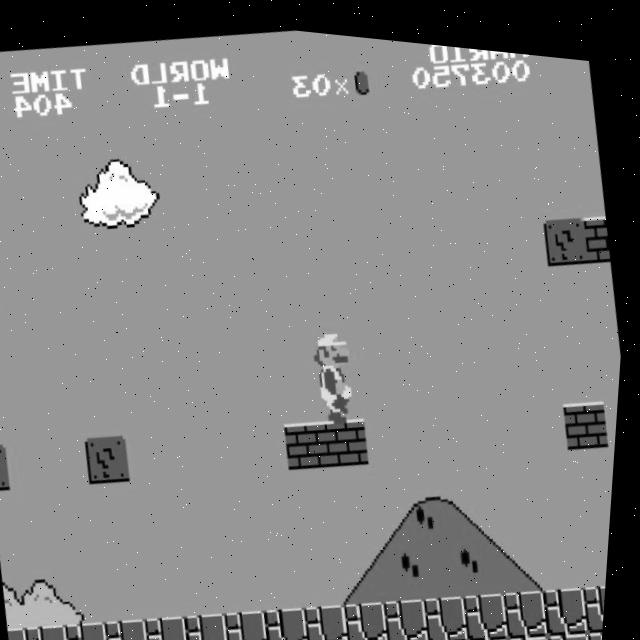1- brick_block: (326, 406, 377, 462), (565, 384, 615, 440), (287, 410, 337, 466), (584, 200, 615, 251)
13- mystery_block: (88, 429, 139, 485), (543, 201, 593, 256), (0, 441, 19, 491)
17- undestructible_block: (547, 570, 598, 626), (507, 574, 558, 630), (468, 578, 519, 634), (428, 582, 479, 637), (388, 585, 439, 640), (349, 589, 399, 640), (309, 593, 359, 640), (269, 596, 320, 640), (229, 600, 280, 640), (190, 604, 240, 640), (149, 607, 200, 640), (110, 611, 161, 640), (587, 566, 613, 620), (71, 615, 121, 640), (554, 615, 600, 640), (31, 618, 81, 640), (514, 619, 560, 640), (474, 623, 520, 640), (435, 627, 481, 640), (594, 611, 611, 640), (395, 630, 441, 640), (14, 624, 42, 640), (355, 634, 401, 640), (316, 637, 361, 640)
4- fire_mario: (307, 315, 371, 420)
